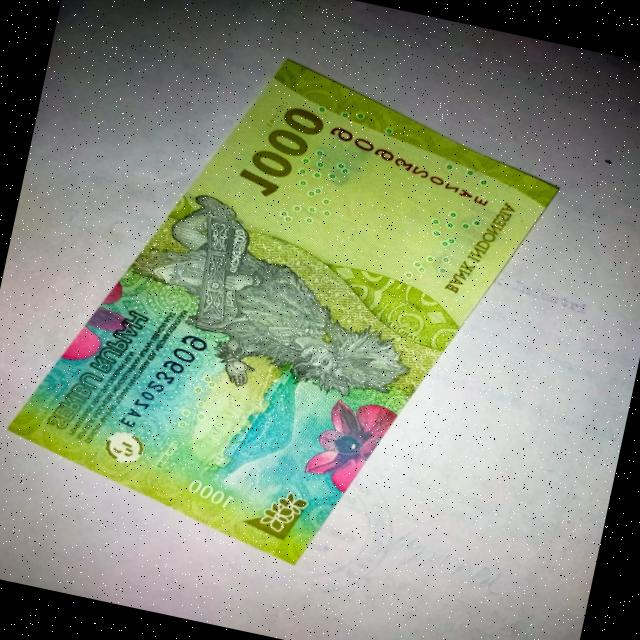1K: (0, 5, 591, 610)
